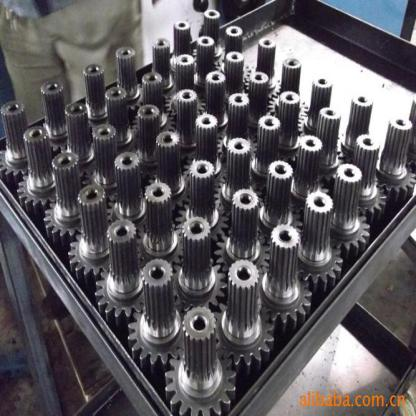FOD: (164, 307, 238, 415), (93, 217, 147, 328)
